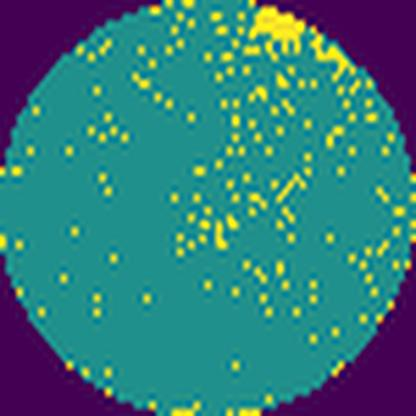Edge-Loc: (248, 0, 311, 59)
